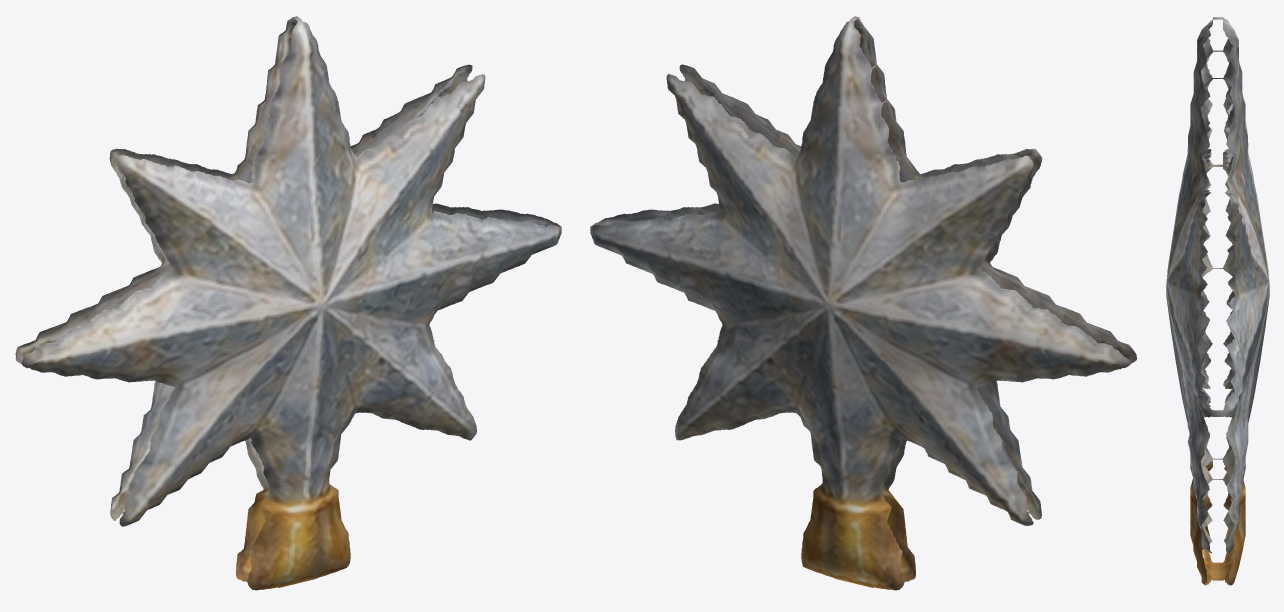
File: Item_ice-star.glb
3 renders of one model, left to right at view 1: azimuth 30°, elevation 25°; view 2: azimuth 150°, elevation 25°; view 3: azimuth 270°, elevation 25°, orthographic.
Parts seen in each view (by area): view 1: Item_ice-star carving; view 2: Item_ice-star carving; view 3: Item_ice-star carving.
Part boxes in pixels (left/top/right/bottom): Item_ice-star carving: left=15, top=16, right=561, bottom=590; Item_ice-star carving: left=590, top=16, right=1136, bottom=590; Item_ice-star carving: left=1166, top=17, right=1269, bottom=585.
Size of the model in its own units: 0.3696 by 0.3667 by 0.062.
1 material, 1 textured.
